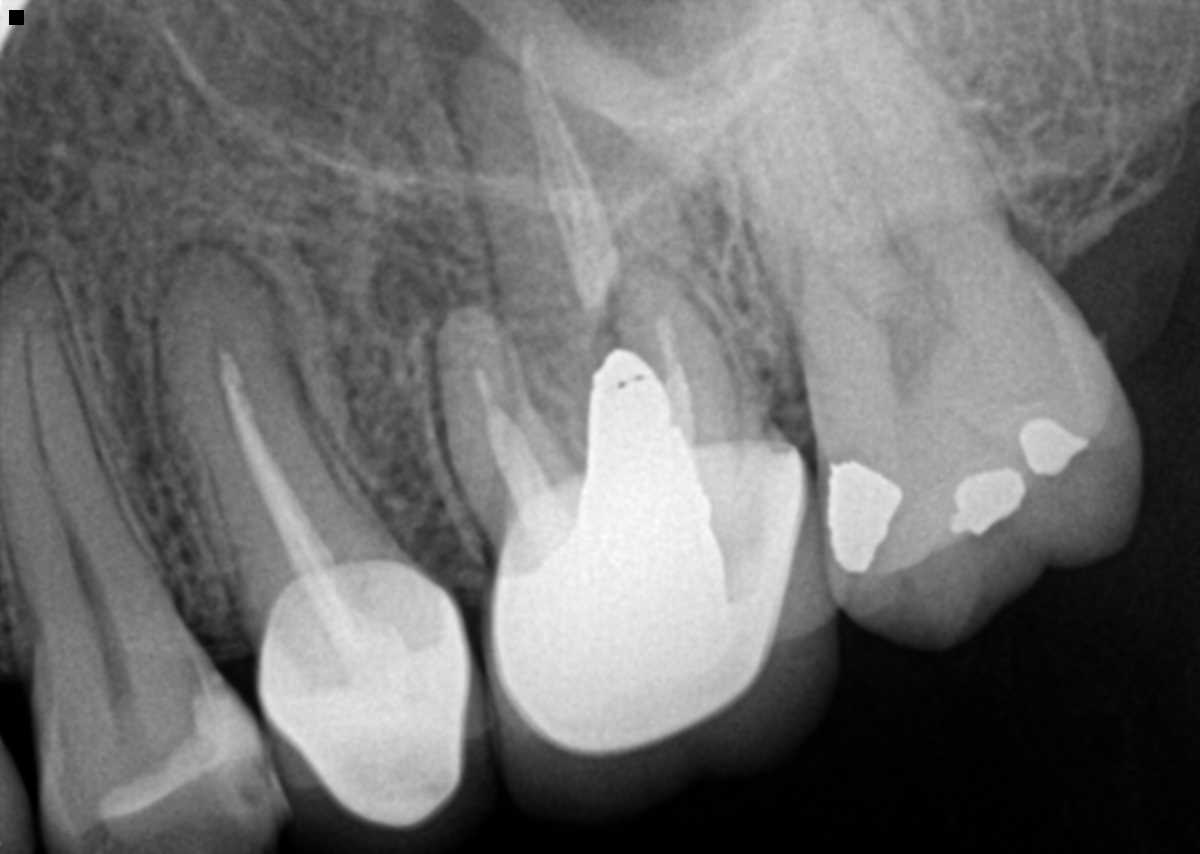Apical Lesion: (410, 0, 699, 104), (369, 197, 514, 342)
Distal Canal: (921, 122, 946, 287)
Distal Root: (829, 0, 1018, 284), (612, 256, 764, 462)
Main Canal: (25, 318, 122, 650)
Main Root: (159, 242, 417, 624), (0, 254, 201, 658)
Mesial Canal: (809, 216, 888, 330)
Mesial Root: (727, 12, 918, 396), (436, 305, 585, 559)
Palatal Root: (451, 0, 769, 542)
Root Canal Filling: (217, 349, 378, 643), (516, 25, 624, 310), (471, 368, 562, 530), (656, 320, 698, 449)
